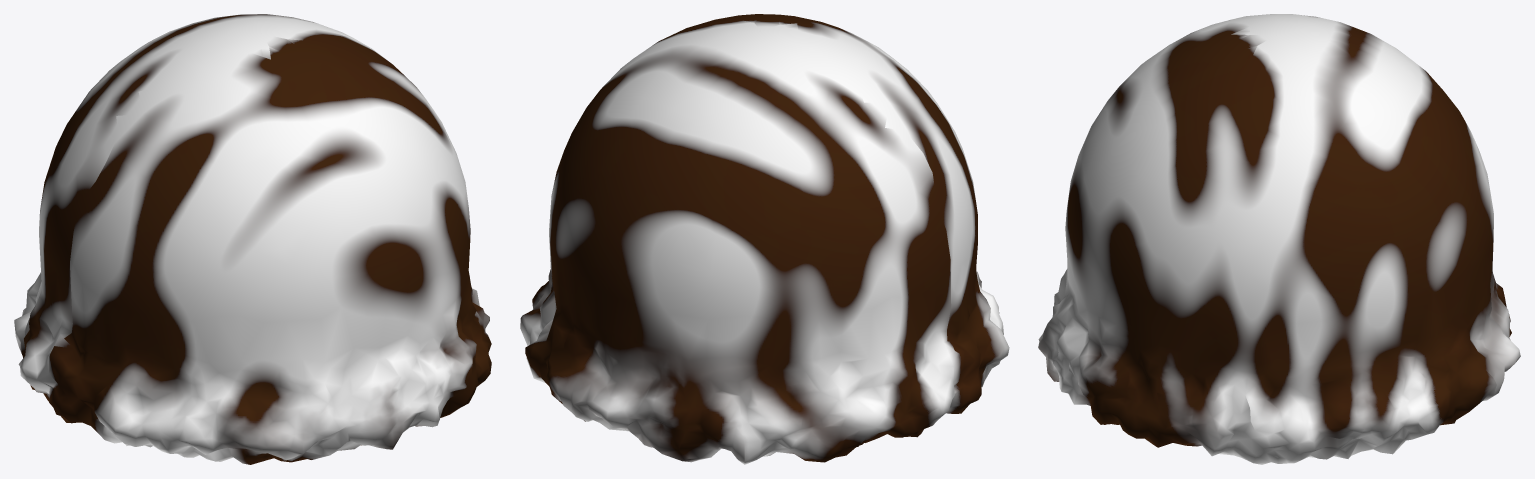
Rendered from IceCream_Choco.fbx.
3 views of the same model, side by side, from view 1: azimuth 30°, elevation 25°; view 2: azimuth 150°, elevation 25°; view 3: azimuth 270°, elevation 25° (orthographic).
Visible parts, largest first — view 1: IceCream_Choco; view 2: IceCream_Choco; view 3: IceCream_Choco.
Part boxes in pixels (x1,y1,x2,y2): IceCream_Choco: (14, 14, 491, 464); IceCream_Choco: (520, 14, 1009, 464); IceCream_Choco: (1038, 14, 1520, 464).
Size of the model in its own units: 220 by 183 by 222.
